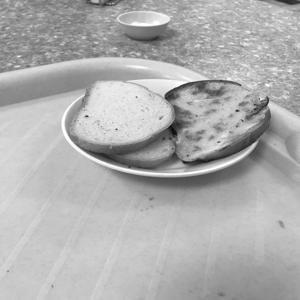bread: (78, 65, 182, 181)
cheese_sandwich: (168, 47, 276, 199)
